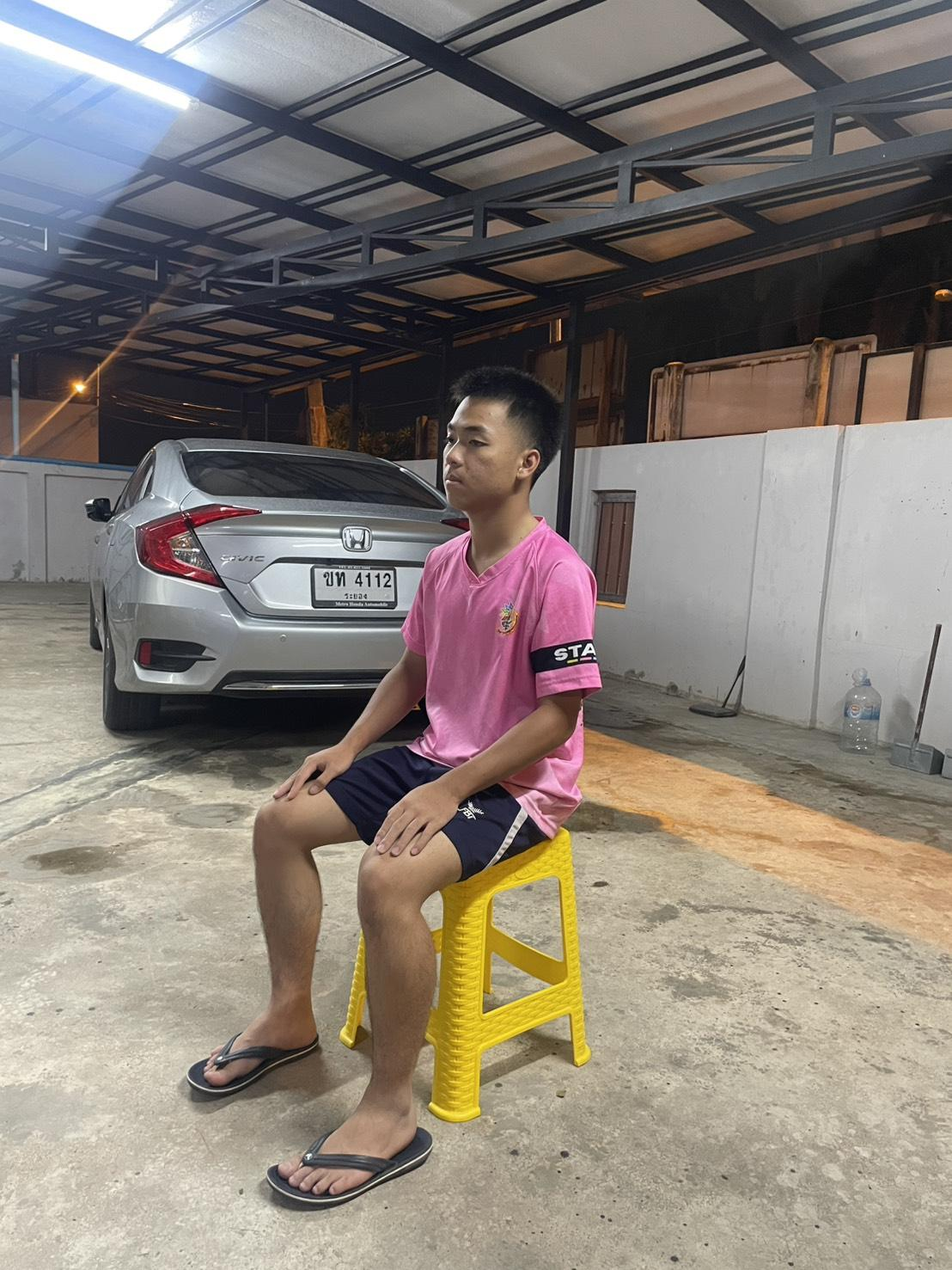GoodPosture: (189, 368, 599, 1208)
